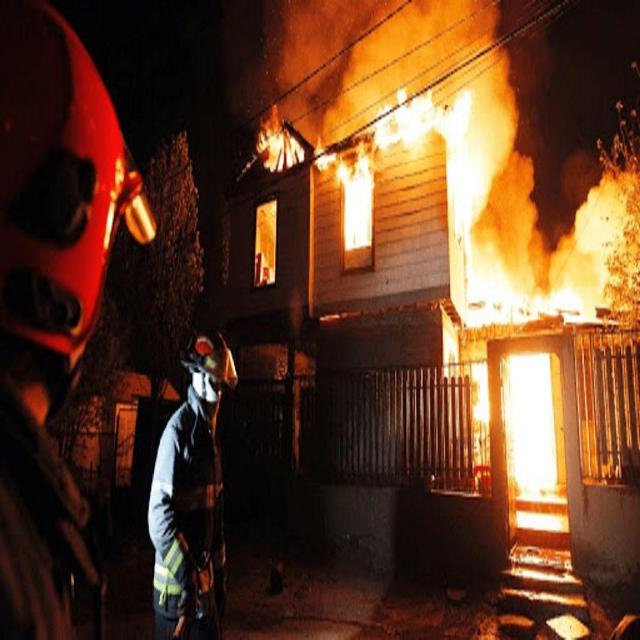fire: (268, 21, 623, 333)
